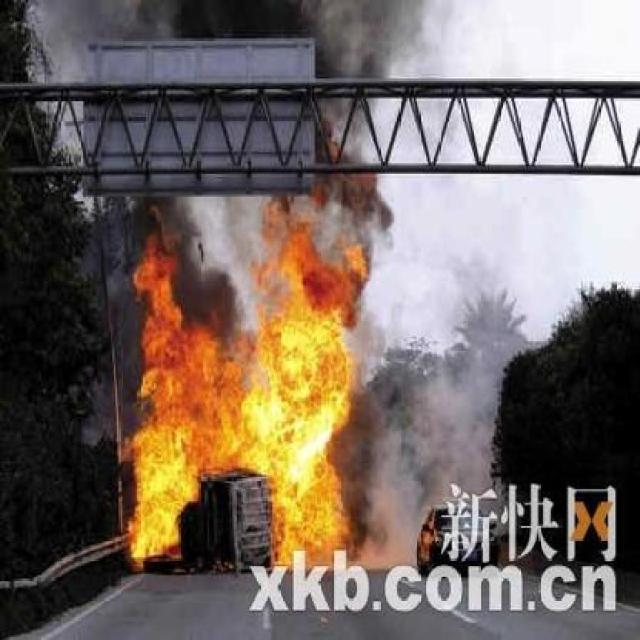Fire: (120, 196, 378, 582)
Smoke: (370, 260, 497, 484)
